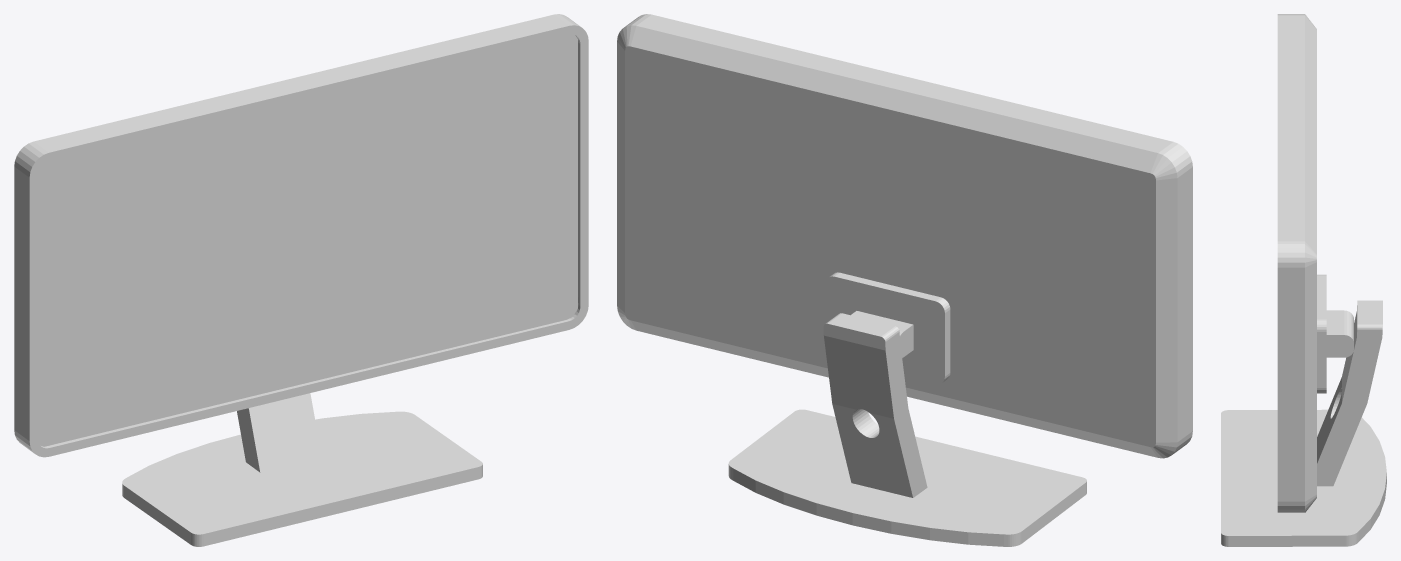
File: desktop.glb
3 renders of one model, left to right at view 1: azimuth 30°, elevation 25°; view 2: azimuth 150°, elevation 25°; view 3: azimuth 270°, elevation 25°, orthographic. The views are drawn at different scales.
Parts seen in each view (by area): view 1: Cube, Plane; view 2: Cube, Plane; view 3: Plane, Cube.
Boxes of the visible parts, x1,y1,x2,y2 form: Cube: (14,14,588,457); Plane: (122,393,482,546); Cube: (617,14,1192,458); Plane: (728,272,1086,546); Plane: (1221,274,1386,546); Cube: (1277,14,1316,512).
Size of the model in its own units: 3.85 by 2.64 by 1.11.
3 materials, 3 textured.
